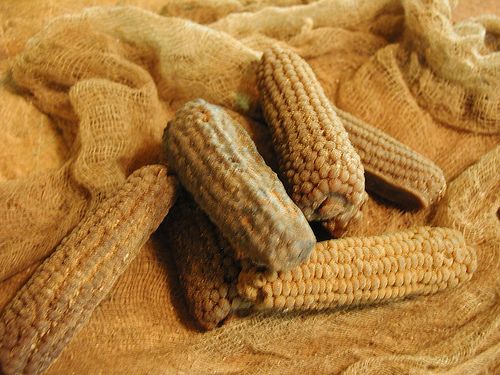corn: (162, 98, 318, 271)
